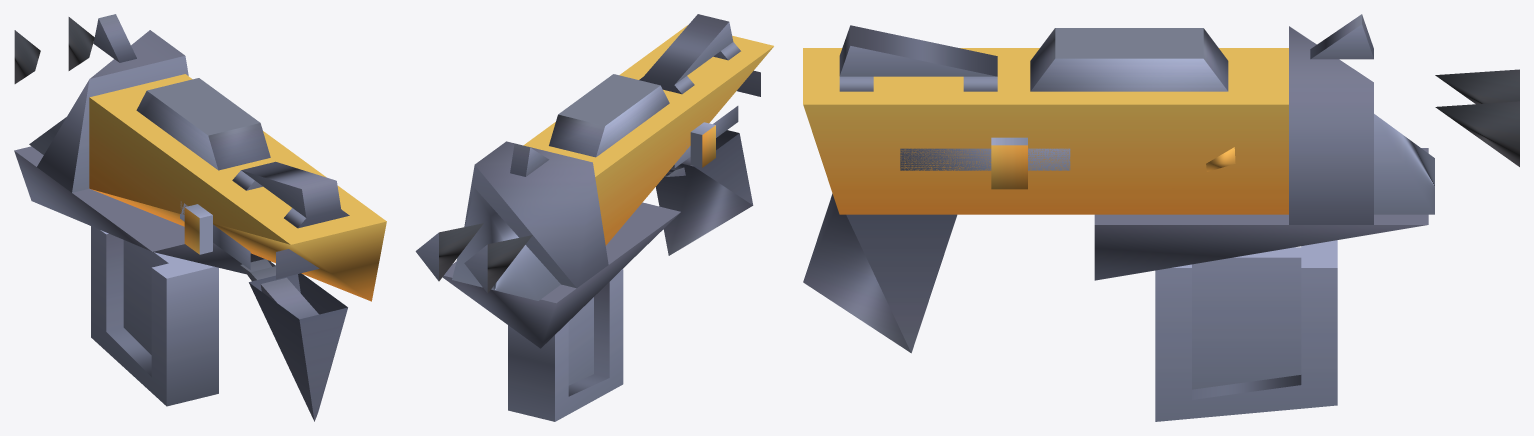
File: blaster-j.glb
The picture shows the model from 3 angles, left to right: view 1: azimuth 30°, elevation 25°; view 2: azimuth 150°, elevation 25°; view 3: azimuth 270°, elevation 25°; orthographic projection. The views are drawn at different scales.
Parts seen in each view (by area): view 1: blaster-j; view 2: blaster-j; view 3: blaster-j.
Part boxes in pixels (x1,y1,x2,y2): blaster-j: [14, 14, 386, 421]; blaster-j: [415, 14, 773, 421]; blaster-j: [803, 14, 1519, 421].
Bounding box in the file's own units: 0.15 × 0.3519 × 0.59.
1 material, 1 textured.
